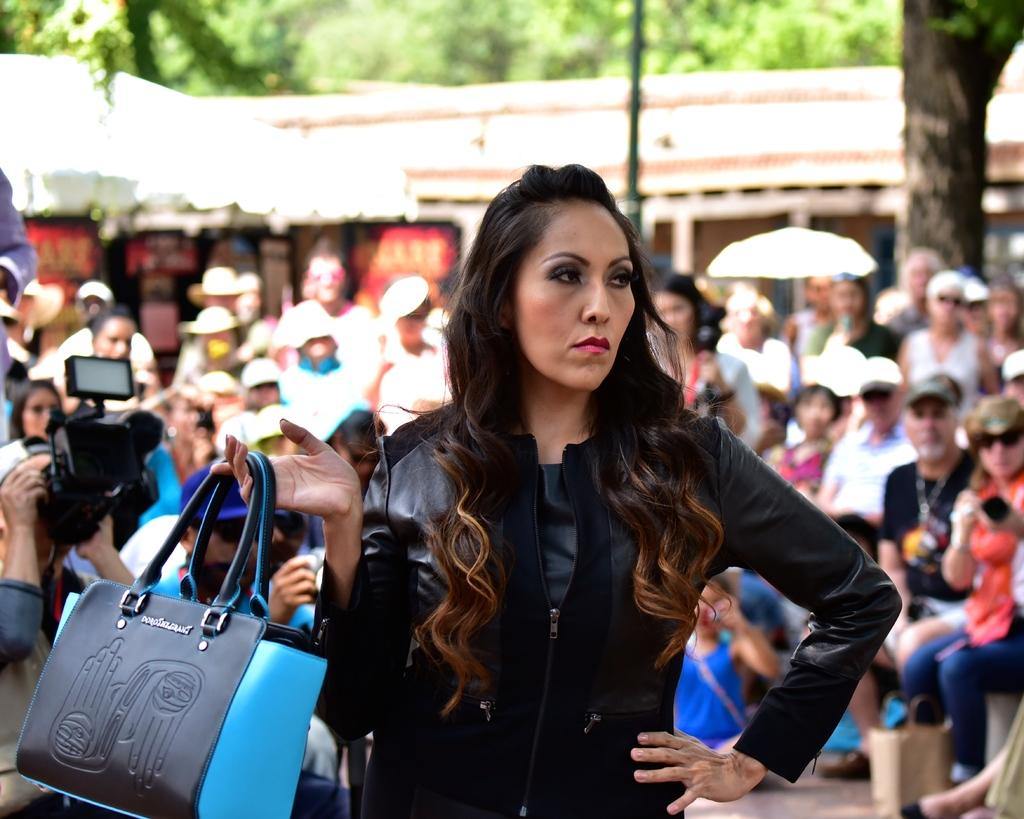Luggage-and-bags: (27, 472, 310, 810)
